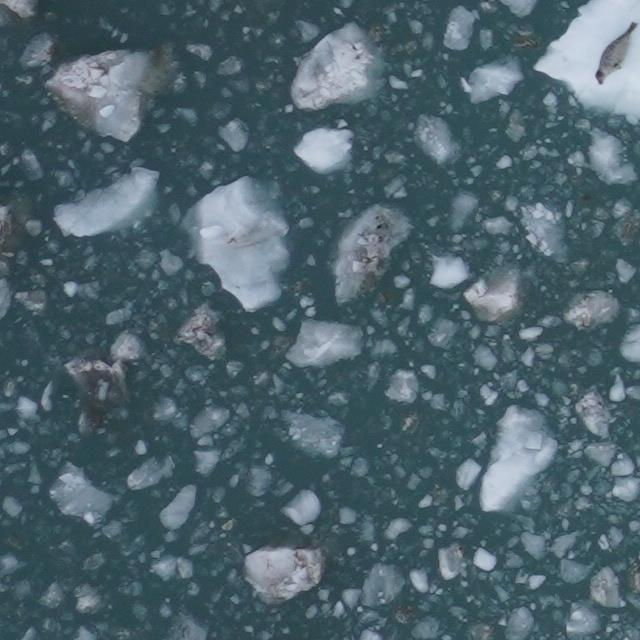seal: (591, 19, 640, 87)
